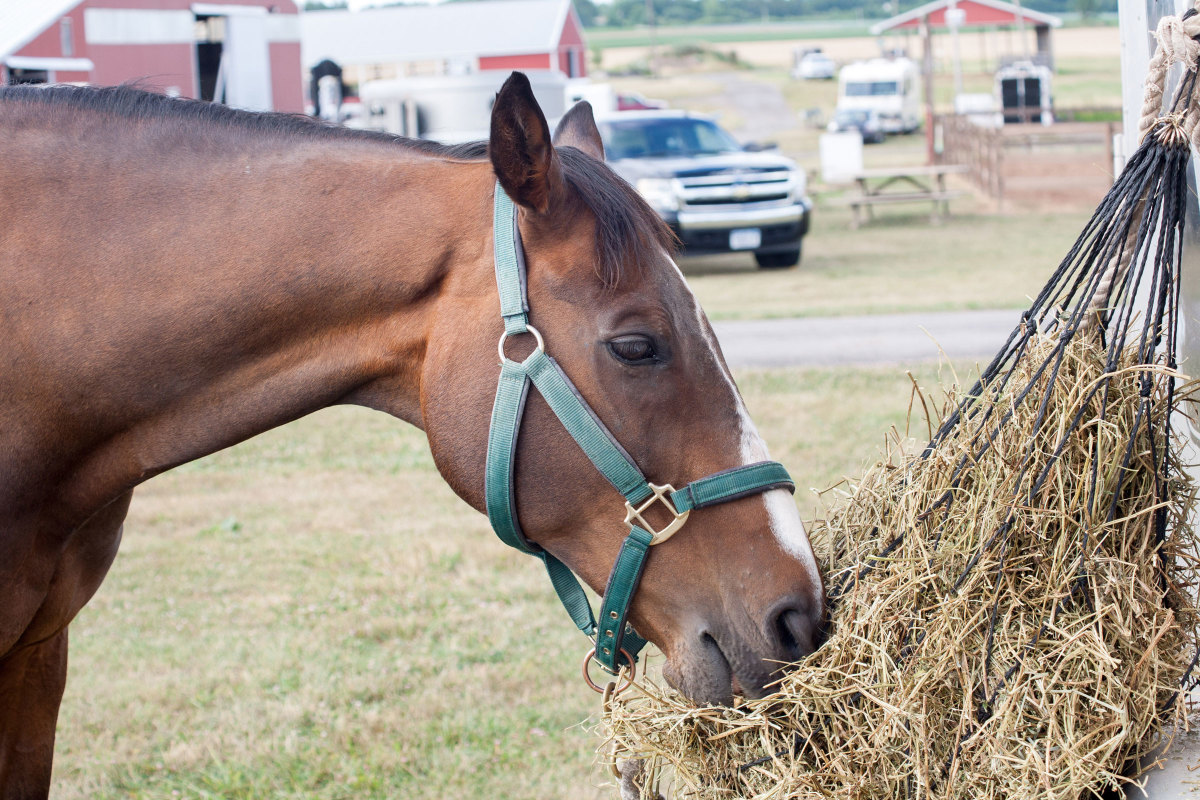Horse: (44, 47, 846, 757)
